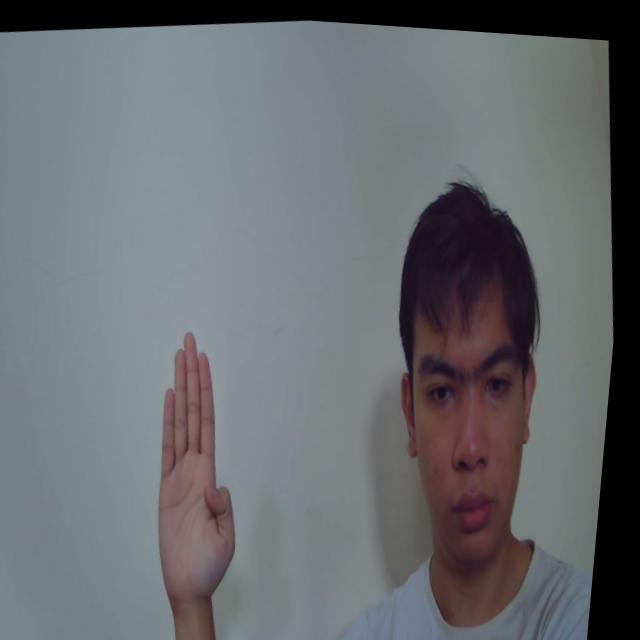B: (143, 319, 268, 602)
